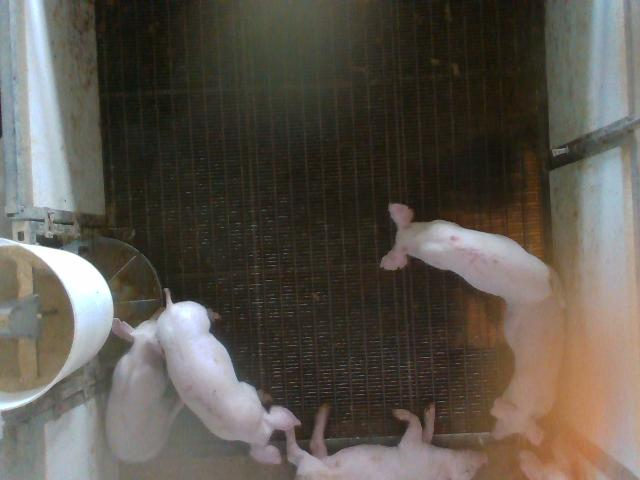pig-3: (156, 290, 300, 463)
pig-4: (491, 269, 565, 444)
pig-5: (381, 204, 551, 304)
